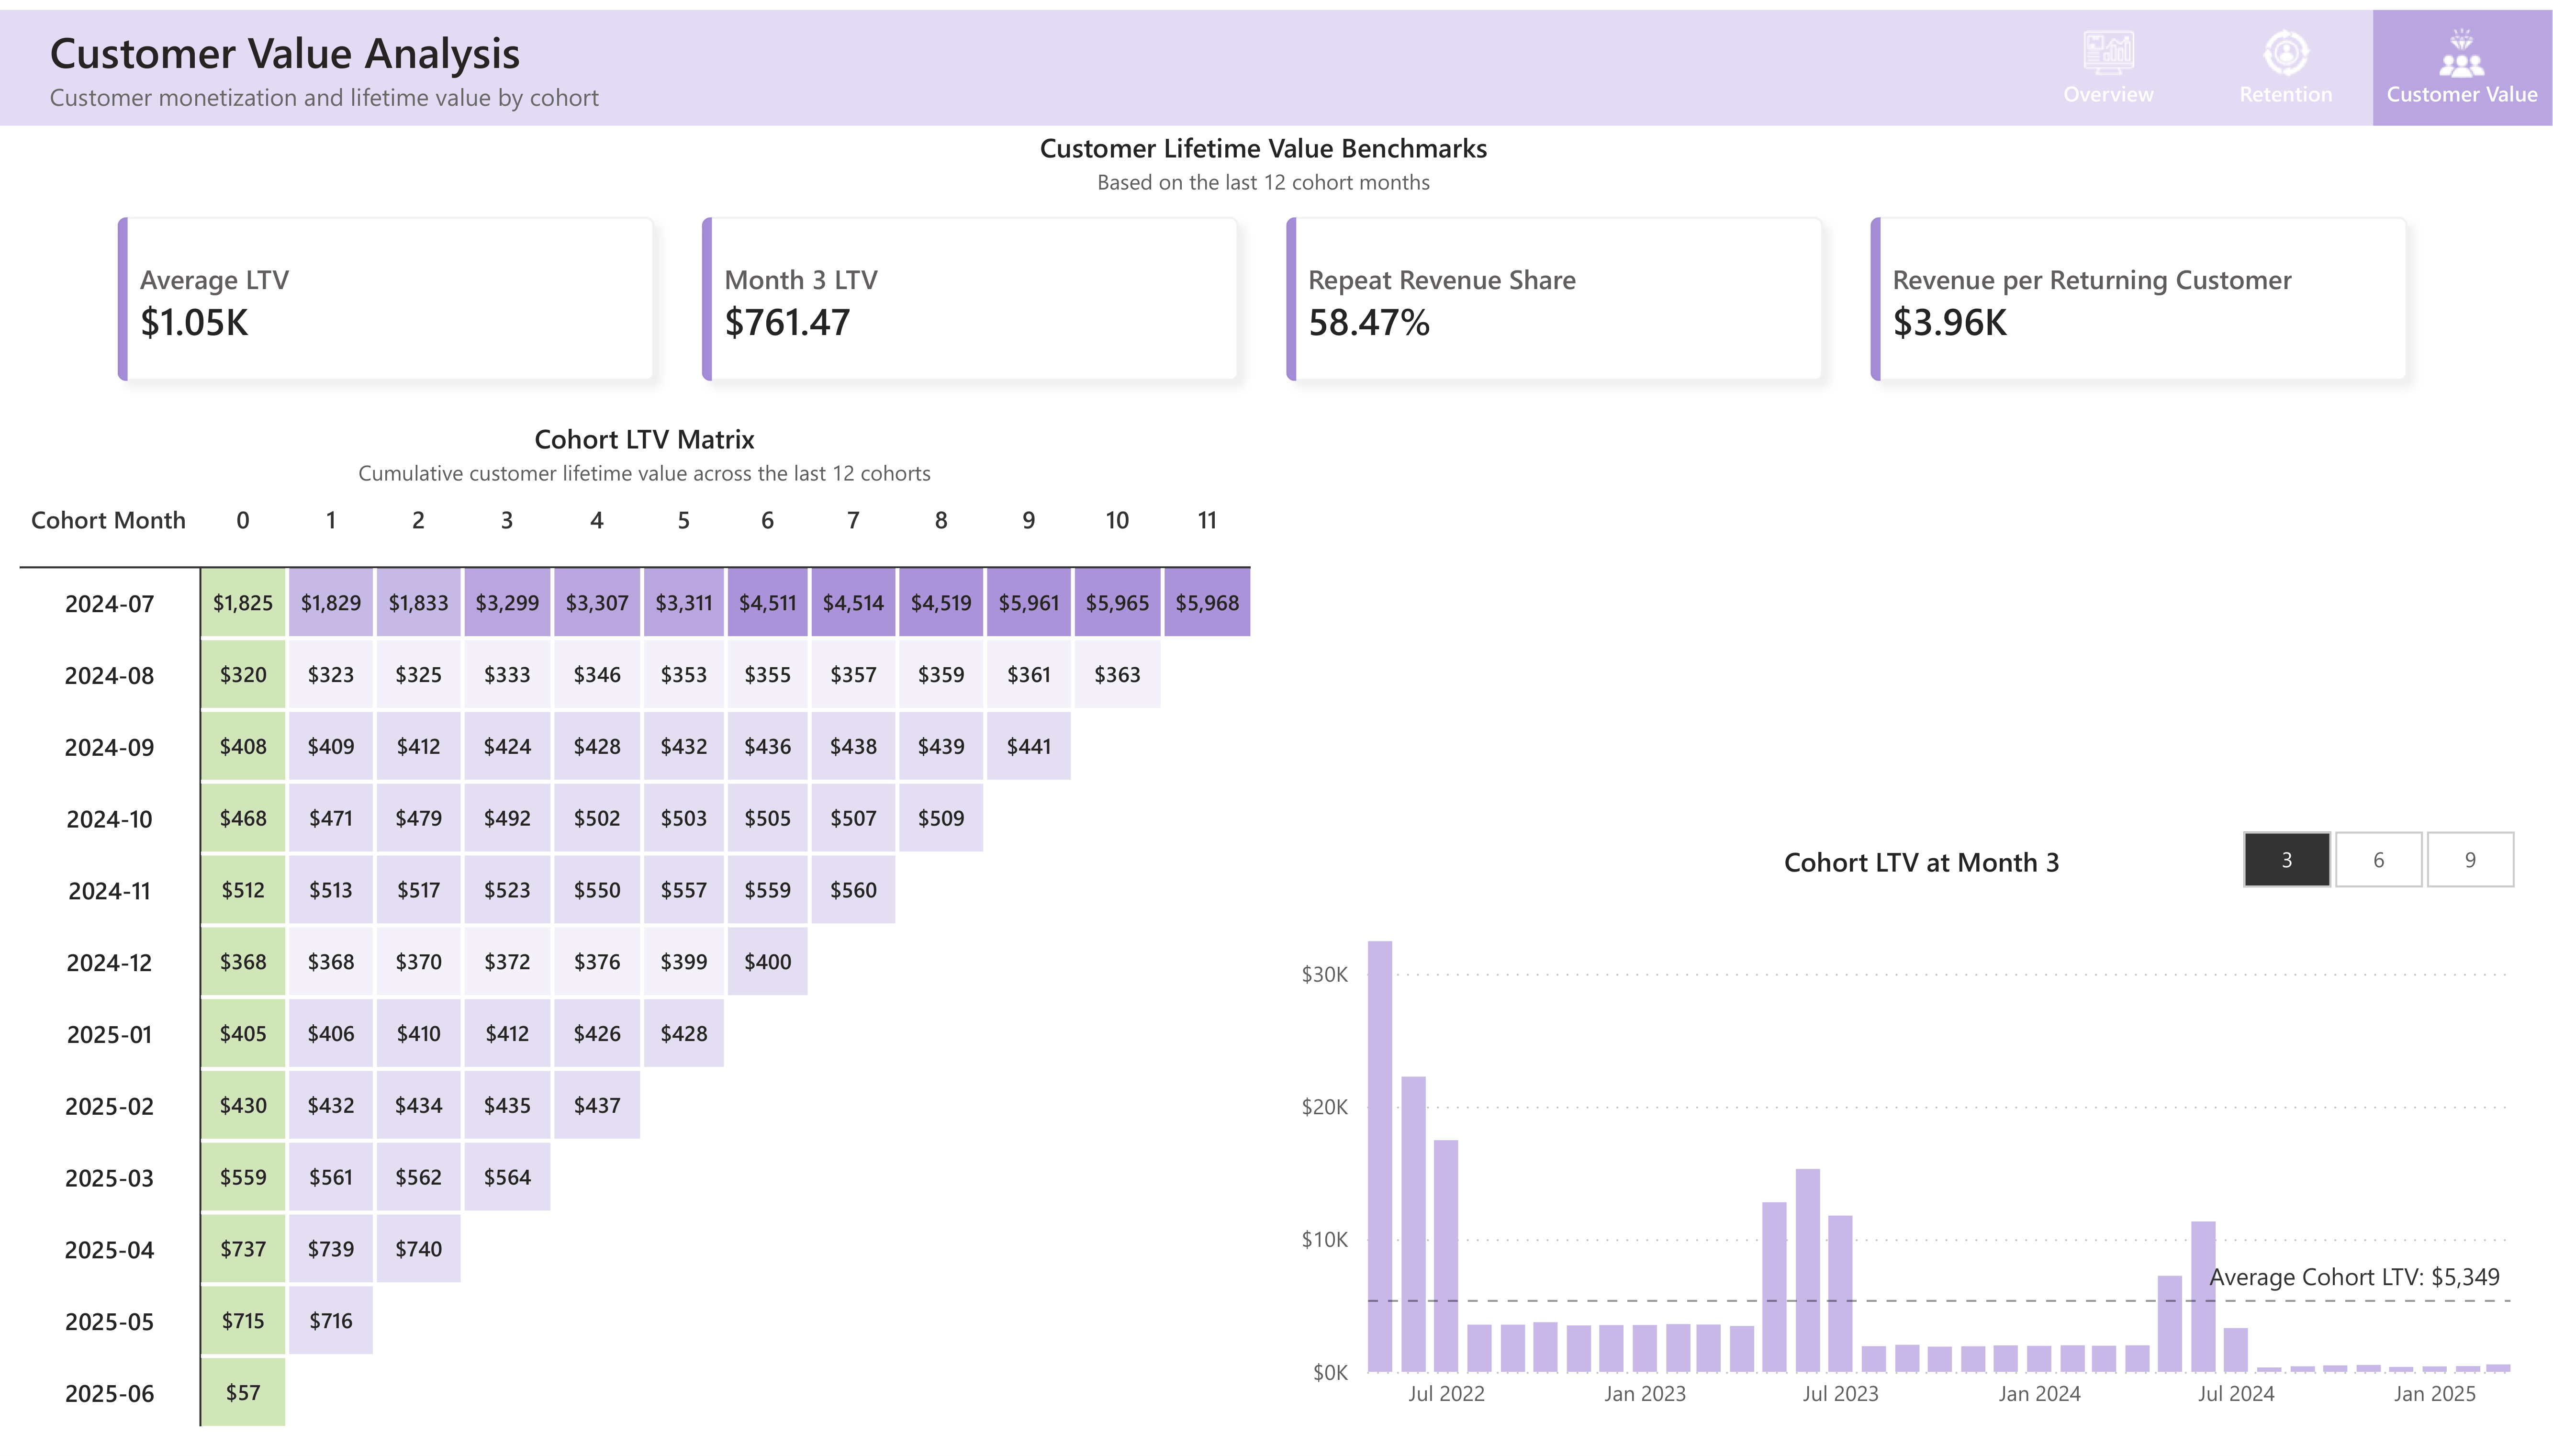

What the dashboard file says about the page in this screenshot:
{"tool":"powerbi","page":{"name":"Customer Value Analysis","canvas":[1280,720],"ordinal":2},"visuals":[{"type":"shape","box":[0,0,1280.4,58],"z":0},{"type":"textbox","title":"Customer Value Analysis","box":[19.9,6.3,355.5,69.8],"z":1000},{"type":"pivotTable","title":"Cohort LTV Matrix","fields":{"Rows":["cohort_ltv.Сohort Month"],"Columns":["cohort_ltv.Cohort Age"],"Values":["Sum(cohort_ltv.Cumulative LTV)"]},"box":[0,201.3,646.5,509.6],"z":2000},{"type":"columnChart","fields":{"Category":["cohort_ltv.Сohort Month"],"Y":["cohort_ltv.CumulativeLTV"]},"box":[646.5,418,633.9,292.9],"z":3000},{"type":"slicer","fields":{"Values":["cohort_ltv.Cohort Age"]},"box":[1104.5,409.9,175.9,31.7],"z":4000},{"type":"cardVisual","title":"Customer Lifetime Value Benchmarks","fields":{"Data":["2. KPI.Average LTV","cohort_ltv.Month 3 LTV","customer_health.Repeat Revenue Share","customer_health.Average Revenue per Active Customer"]},"box":[47.2,58,1173.4,142.4],"z":5000},{"type":"actionButton","box":[1012.9,0,88.9,58],"z":6000},{"type":"actionButton","box":[1101.8,0,88.9,58],"z":7000},{"type":"actionButton","box":[1190.2,0,89.8,58],"z":8000}]}

Visuals, with their boxes in screenshot pixels (x1, y1, x2, y2), scaled from the page's 1280x720 canvas onto the 2553x1456 screenshot:
shape: <bbox>0, 0, 2553, 117</bbox>
"Customer Value Analysis" textbox: <bbox>40, 13, 749, 154</bbox>
"Cohort LTV Matrix" pivotTable: <bbox>0, 407, 1289, 1438</bbox>
columnChart - cohort_ltv.Сohort Month x cohort_ltv.CumulativeLTV: <bbox>1289, 845, 2553, 1438</bbox>
slicer - cohort_ltv.Cohort Age: <bbox>2203, 829, 2553, 893</bbox>
"Customer Lifetime Value Benchmarks" cardVisual: <bbox>94, 117, 2434, 405</bbox>
actionButton: <bbox>2020, 0, 2197, 117</bbox>
actionButton: <bbox>2197, 0, 2375, 117</bbox>
actionButton: <bbox>2374, 0, 2553, 117</bbox>
